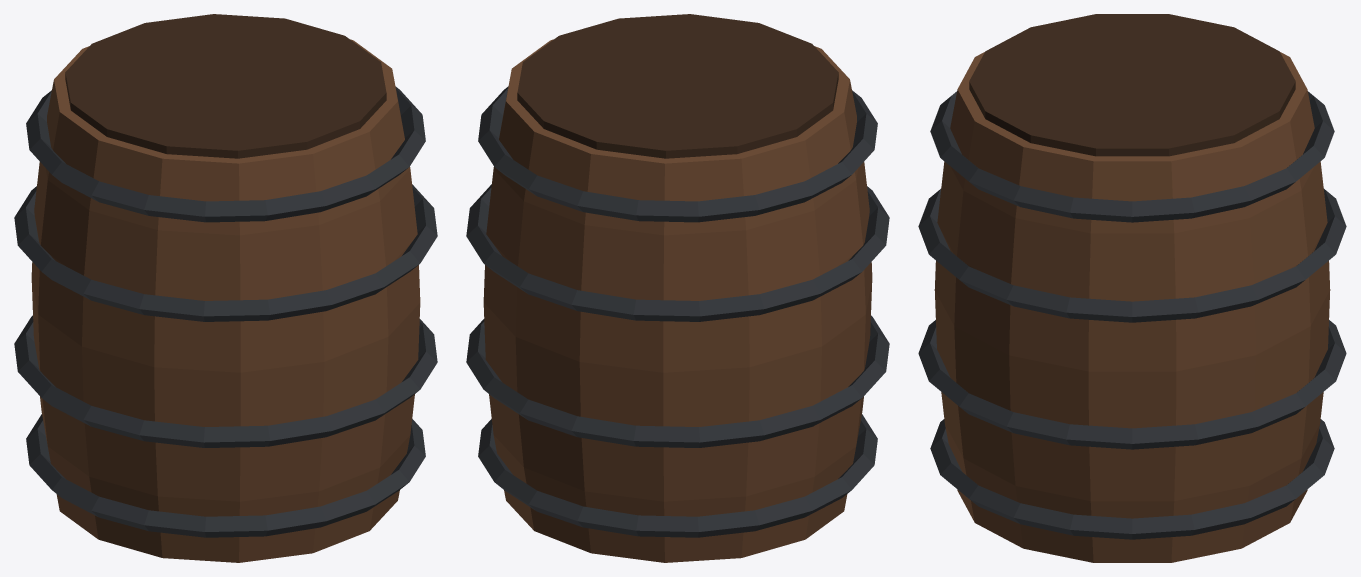
File: barrel.glb
The picture shows the model from 3 angles, left to right: view 1: azimuth 30°, elevation 25°; view 2: azimuth 150°, elevation 25°; view 3: azimuth 270°, elevation 25°; orthographic projection.
Visible parts, largest first — view 1: Barrel; view 2: Barrel; view 3: Barrel.
Boxes of the visible parts, x1,y1,x2,y2 form: Barrel: (14, 14, 437, 562); Barrel: (466, 14, 889, 562); Barrel: (918, 14, 1346, 562).
Bounding box in the file's own units: 0.7342 × 0.775 × 0.7342.
